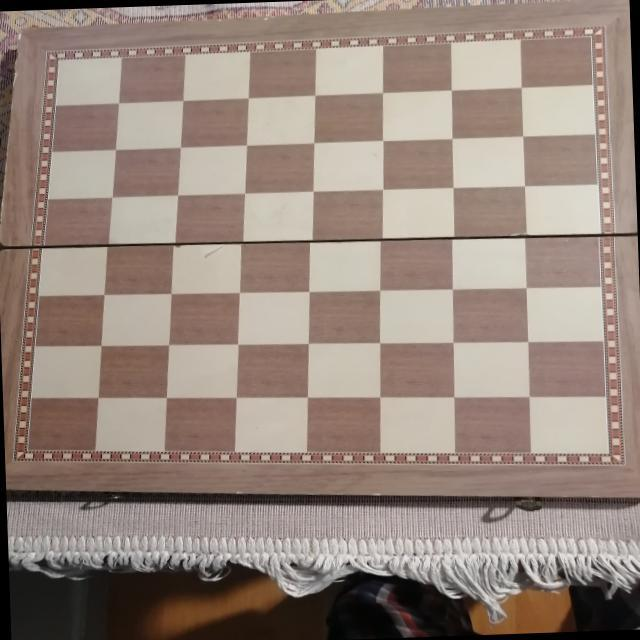corners: (12, 20, 40, 41)
